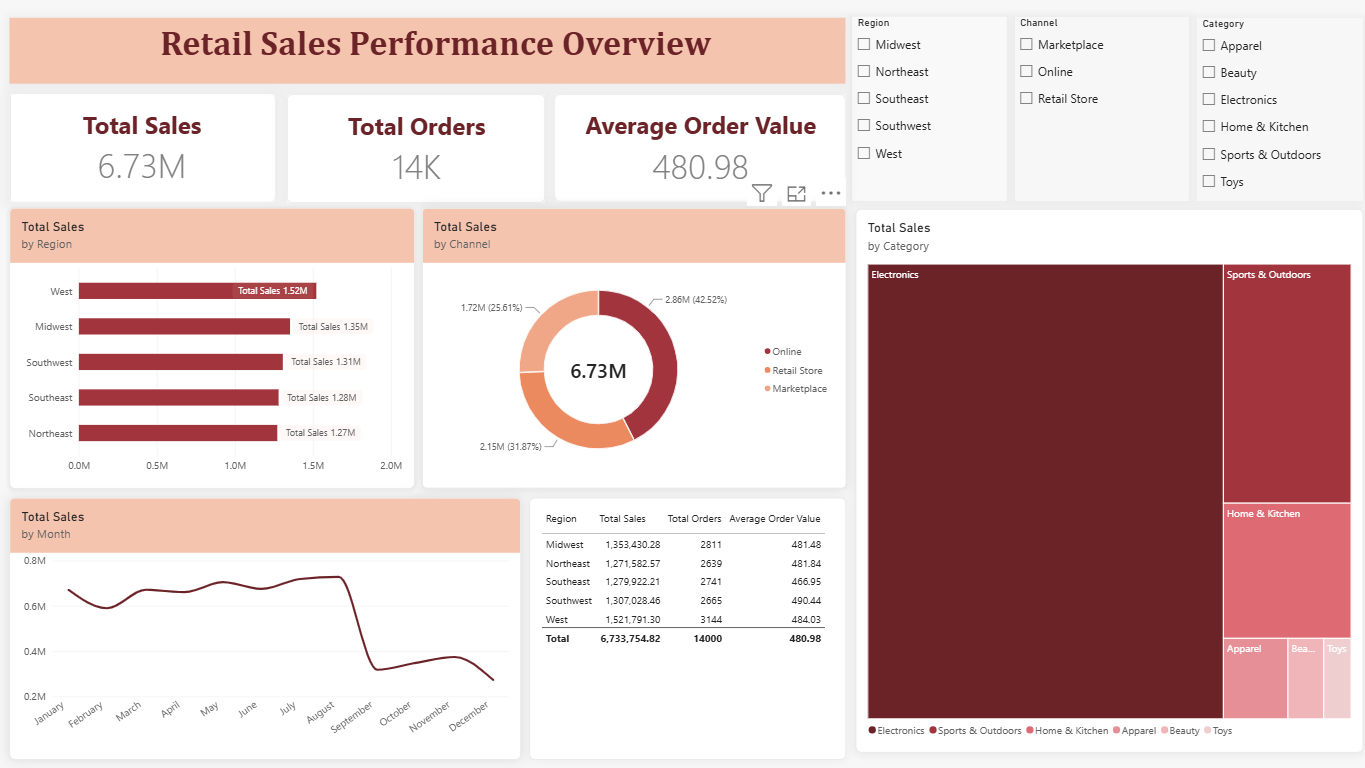

What the dashboard file says about the page in this screenshot:
{"tool":"powerbi","page":{"name":"Page 1","canvas":[1920,1080],"ordinal":0},"visuals":[{"type":"cardVisual","fields":{"Data":["retail_sales_data.Total Sales","retail_sales_data.Total Sales"]},"box":[18,132,370,150],"z":0},{"type":"cardVisual","fields":{"Data":["retail_sales_data.Total Orders"]},"box":[404,132,360,152],"z":1000},{"type":"cardVisual","fields":{"Data":["retail_sales_data.Average Order Value"]},"box":[778,132,406,150],"z":2000},{"type":"clusteredBarChart","fields":{"Category":["retail_sales_data.Region"],"Y":["retail_sales_data.Total Sales"]},"box":[18.2,291.8,565.5,391.8],"z":3000},{"type":"donutChart","fields":{"Category":["retail_sales_data.Channel"],"Y":["retail_sales_data.Total Sales"]},"box":[593.6,291.8,591.8,391.8],"z":4000},{"type":"lineChart","fields":{"Category":["retail_sales_data.OrderDate.Variation.Date Hierarchy.Year","retail_sales_data.OrderDate.Variation.Date Hierarchy.Quarter","retail_sales_data.OrderDate.Variation.Date Hierarchy.Month","retail_sales_data.OrderDate.Variation.Date Hierarchy.Day"],"Y":["retail_sales_data.Total Sales"]},"box":[18.2,696.4,713.6,365.5],"z":5000},{"type":"treemap","fields":{"Group":["retail_sales_data.Category"],"Values":["retail_sales_data.Total Sales"]},"box":[1198.9,292.2,708.3,758.3],"z":6000},{"type":"tableEx","fields":{"Values":["retail_sales_data.Region","retail_sales_data.Total Sales","retail_sales_data.Total Orders","retail_sales_data.Average Order Value"]},"box":[742.7,696.4,441.8,365.5],"z":7000},{"type":"textbox","box":[18,26,1166,92],"z":8000},{"type":"slicer","fields":{"Values":["retail_sales_data.Region"]},"box":[1193.6,24.3,215.7,257.1],"z":9000},{"type":"slicer","fields":{"Values":["retail_sales_data.Channel"]},"box":[1420,24.3,242.9,257.1],"z":10000},{"type":"slicer","fields":{"Values":["retail_sales_data.Category"]},"box":[1675,25.7,232.1,255.7],"z":11000}]}

Visuals, with their boxes in screenshot pixels (x1, y1, x2, y2), scaled from the page's 1920x1080 canvas onto the 1365x768 screenshot:
cardVisual - retail_sales_data.Total Sales x retail_sales_data.Total Sales: 13/94/276/201
cardVisual - retail_sales_data.Total Orders: 287/94/543/202
cardVisual - retail_sales_data.Average Order Value: 553/94/842/201
clusteredBarChart - retail_sales_data.Region x retail_sales_data.Total Sales: 13/208/415/486
donutChart - retail_sales_data.Channel x retail_sales_data.Total Sales: 422/208/843/486
lineChart - retail_sales_data.OrderDate.Variation.Date Hierarchy.Year x retail_sales_data.OrderDate.Variation.Date Hierarchy.Quarter: 13/495/520/755
treemap - retail_sales_data.Category x retail_sales_data.Total Sales: 852/208/1356/747
tableEx - retail_sales_data.Region x retail_sales_data.Total Sales: 528/495/842/755
textbox: 13/18/842/84
slicer - retail_sales_data.Region: 849/17/1002/200
slicer - retail_sales_data.Channel: 1010/17/1182/200
slicer - retail_sales_data.Category: 1191/18/1356/200
